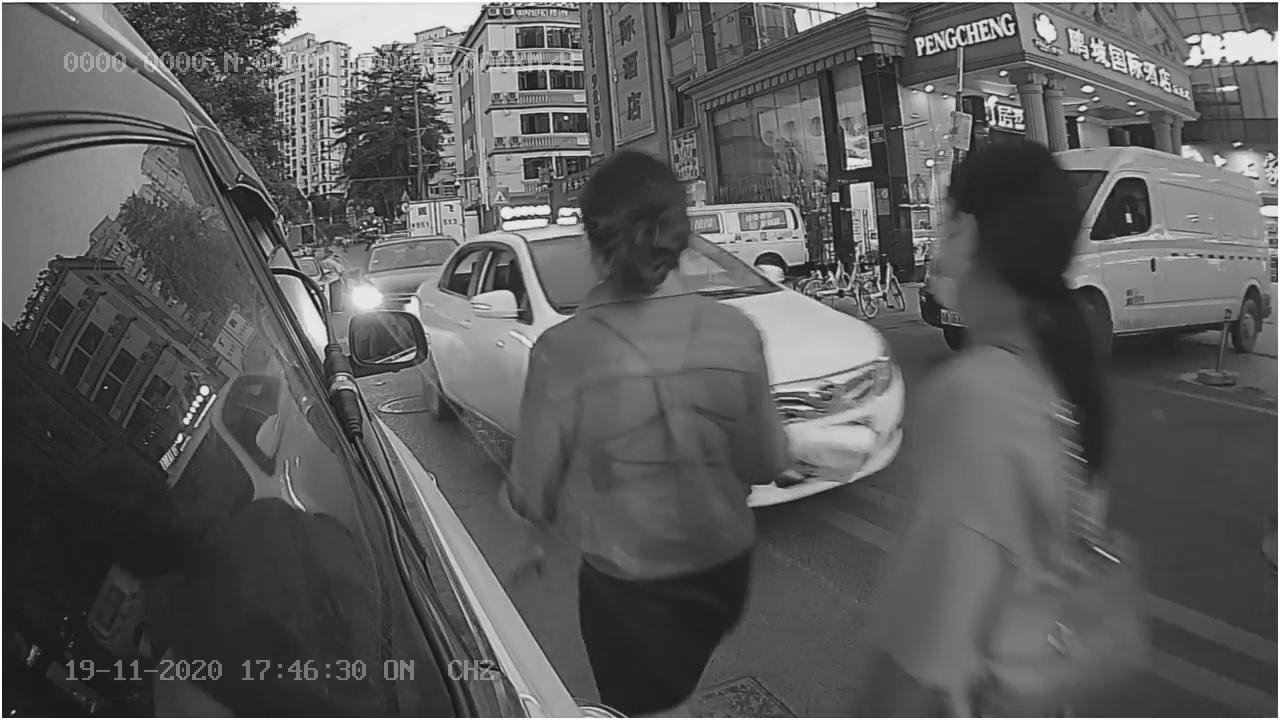person: (895, 153, 1123, 673)
